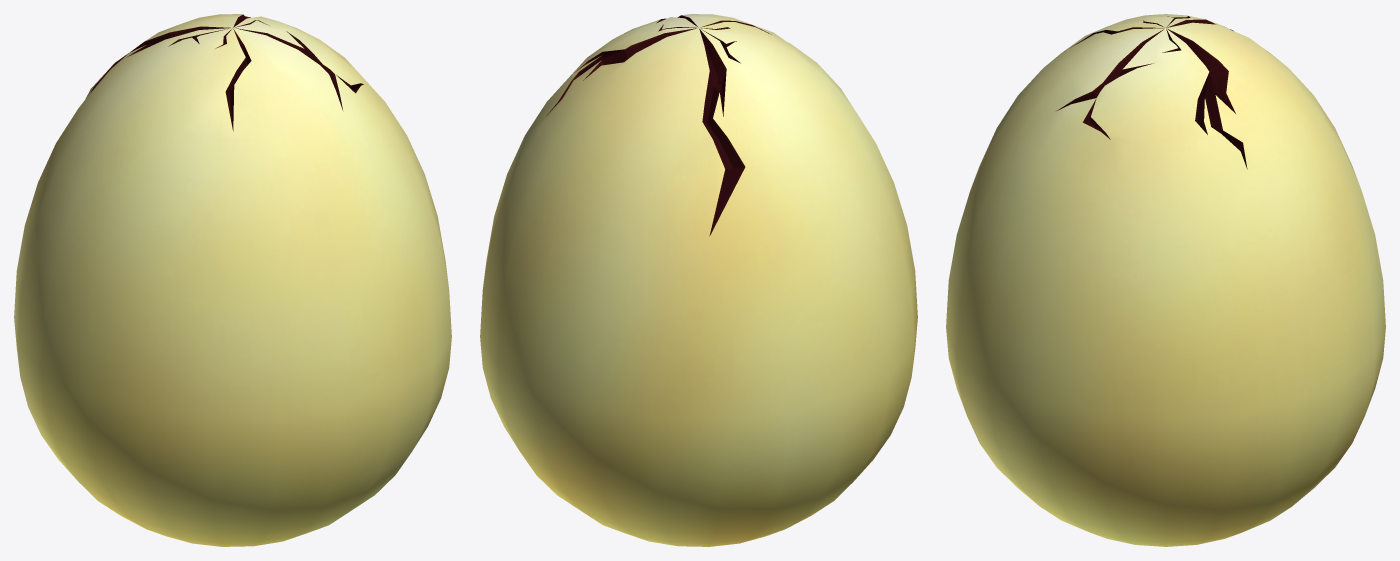
3 views of the same model, side by side, from view 1: azimuth 30°, elevation 25°; view 2: azimuth 150°, elevation 25°; view 3: azimuth 270°, elevation 25° (orthographic).
Visible parts, largest first — view 1: Tier11; view 2: Tier11; view 3: Tier11.
Boxes of the visible parts, bbox=[...] form: Tier11: bbox=[14, 14, 451, 546]; Tier11: bbox=[480, 14, 917, 546]; Tier11: bbox=[946, 14, 1385, 546].
Size of the model in its own units: 5.6 by 7 by 5.6.
1 material, 1 textured.
